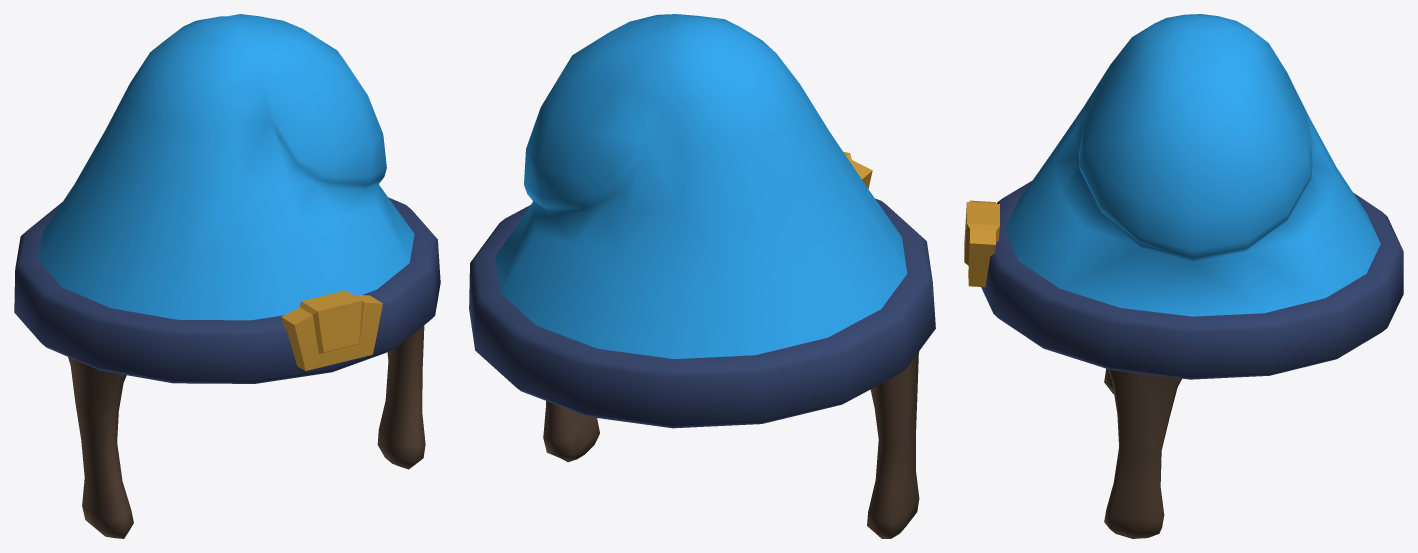
Rendered from Hat06.fbx.
3 renders of one model, left to right at view 1: azimuth 30°, elevation 25°; view 2: azimuth 150°, elevation 25°; view 3: azimuth 270°, elevation 25°, orthographic. The views are drawn at different scales.
Visible parts, largest first — view 1: Hat06; view 2: Hat06; view 3: Hat06.
Boxes of the visible parts, x1=… form: Hat06: x1=14, y1=14, x2=440, y2=538; Hat06: x1=469, y1=14, x2=935, y2=538; Hat06: x1=964, y1=14, x2=1403, y2=538.
Bounding box in the file's own units: 78.55 × 91.02 × 80.88.
